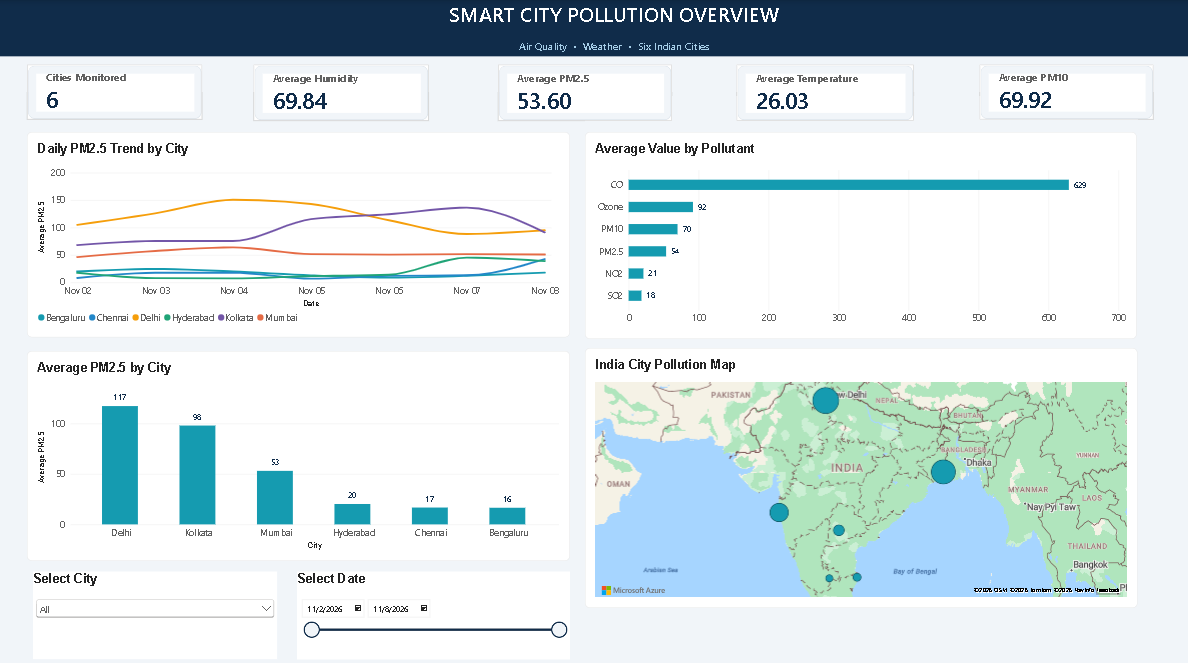

The page's visual inventory and layout, read from the dashboard file:
{"tool":"powerbi","page":{"name":"City Overview","canvas":[1920,1080],"ordinal":0},"visuals":[{"type":"cardVisual","fields":{"Data":["gold_city_daily.Average PM2.5"]},"box":[806,104,278,90],"z":0},{"type":"cardVisual","fields":{"Data":["gold_city_daily.Average PM10"]},"box":[1574,104,278,88],"z":1000},{"type":"cardVisual","fields":{"Data":["gold_city_daily.Average Temperature"]},"box":[1186,102,283.3,90],"z":2000},{"type":"cardVisual","fields":{"Data":["gold_city_daily.Average Humidity"]},"box":[414,102,280,90],"z":3000},{"type":"cardVisual","fields":{"Data":["gold_city_daily.Cities Monitored"]},"box":[52,104,280,88],"z":4000},{"type":"shape","box":[0,0,1919.1,90],"z":5000},{"type":"textbox","box":[62.5,0,1857.5,90],"z":6000},{"type":"textbox","box":[0,816,213,156],"z":7000},{"type":"lineChart","title":"Daily PM2.5 Trend by City","fields":{"Category":["gold_city_daily.date"],"Series":["gold_city_daily.city"],"Y":["Sum(gold_city_daily.pm2_5_avg)"]},"box":[51.6,211,867.5,328.2],"z":8000},{"type":"clusteredColumnChart","title":"Average PM2.5 by City","fields":{"Category":["gold_city_daily.city"],"Y":["Avg(gold_city_daily.pm2_5_avg)"]},"box":[52.5,560,867.5,335],"z":9000},{"type":"clusteredBarChart","title":"Average Value by Pollutant","fields":{"Category":["gold_pollutant_trends.pollutant"],"Y":["Avg(gold_pollutant_trends.average_value)"]},"box":[944.8,211,881.5,330.6],"z":10000},{"type":"slicer","title":"Select City","fields":{"Values":["gold_city_daily.city"]},"box":[62.5,912.5,390,140],"z":11000},{"type":"slicer","title":"Select Date","fields":{"Values":["gold_city_daily.date"]},"box":[485,912.5,435,140],"z":12000},{"type":"azureMap","title":"India City Pollution Map","fields":{"Category":["gold_city_daily.city"],"Size":["Sum(gold_city_daily.pm2_5_avg)"]},"box":[945,555,882.5,415],"z":13000}]}

Visuals, with their boxes in screenshot pixels (x1, y1, x2, y2), scaled from the page's 1920x1080 canvas onto the 1188x663 screenshot:
cardVisual - gold_city_daily.Average PM2.5: [left=499, top=64, right=671, bottom=119]
cardVisual - gold_city_daily.Average PM10: [left=974, top=64, right=1146, bottom=118]
cardVisual - gold_city_daily.Average Temperature: [left=734, top=63, right=909, bottom=118]
cardVisual - gold_city_daily.Average Humidity: [left=256, top=63, right=429, bottom=118]
cardVisual - gold_city_daily.Cities Monitored: [left=32, top=64, right=205, bottom=118]
shape: [left=0, top=0, right=1187, bottom=55]
textbox: [left=39, top=0, right=1187, bottom=55]
textbox: [left=0, top=501, right=132, bottom=597]
"Daily PM2.5 Trend by City" lineChart: [left=32, top=130, right=569, bottom=331]
"Average PM2.5 by City" clusteredColumnChart: [left=32, top=344, right=569, bottom=549]
"Average Value by Pollutant" clusteredBarChart: [left=585, top=130, right=1130, bottom=332]
"Select City" slicer: [left=39, top=560, right=280, bottom=646]
"Select Date" slicer: [left=300, top=560, right=569, bottom=646]
"India City Pollution Map" azureMap: [left=585, top=341, right=1131, bottom=595]
